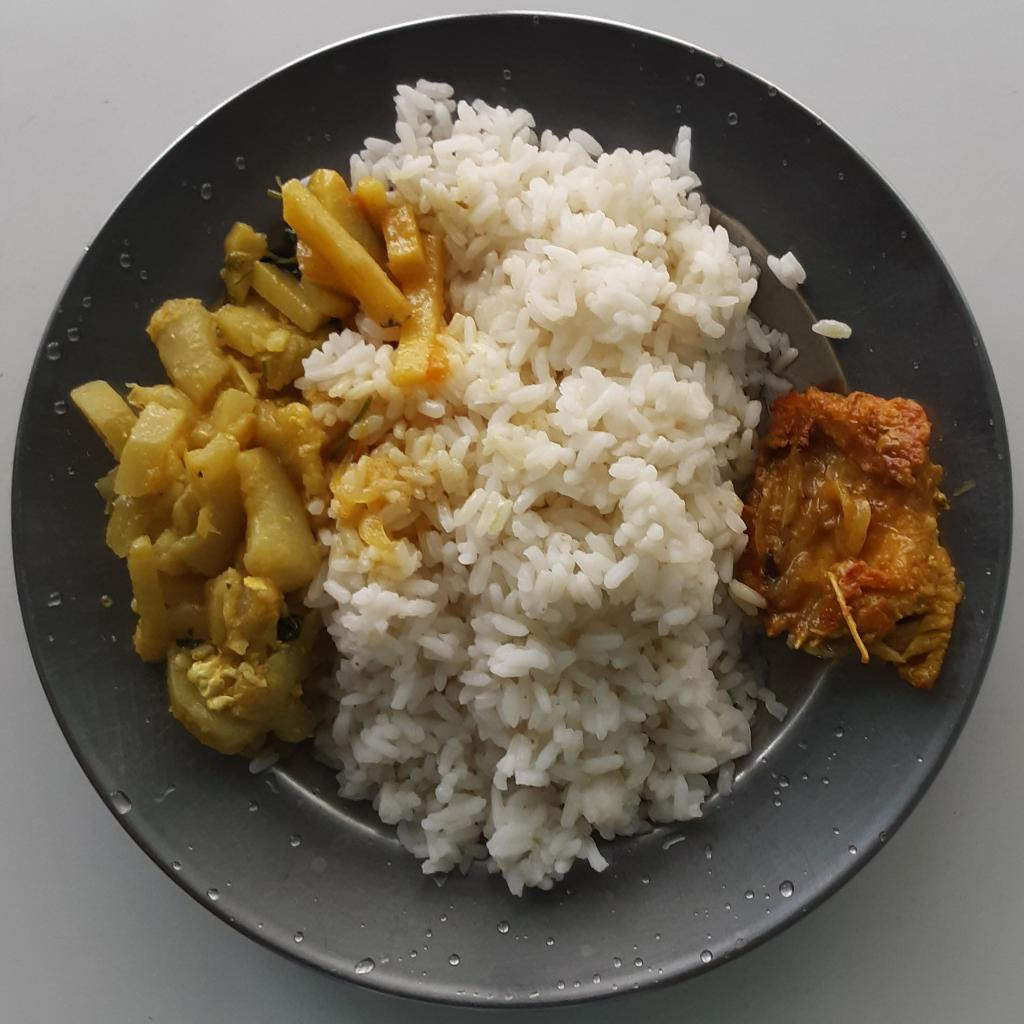fish: (738, 393, 954, 686)
lau: (68, 224, 352, 758)
potato: (281, 171, 442, 390)
rice: (293, 79, 805, 908)
